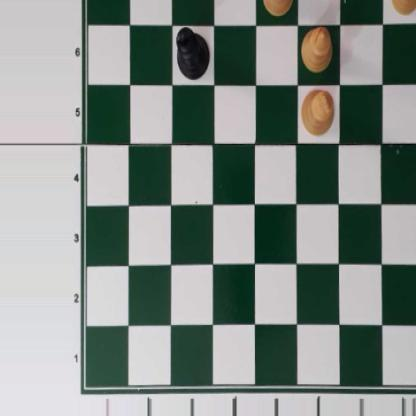black-king: (173, 26, 210, 80)
white-bishop: (302, 25, 331, 73)
white-king: (299, 87, 335, 135)
white-pawn: (390, 0, 416, 15)
white-rook: (262, 0, 295, 15)
